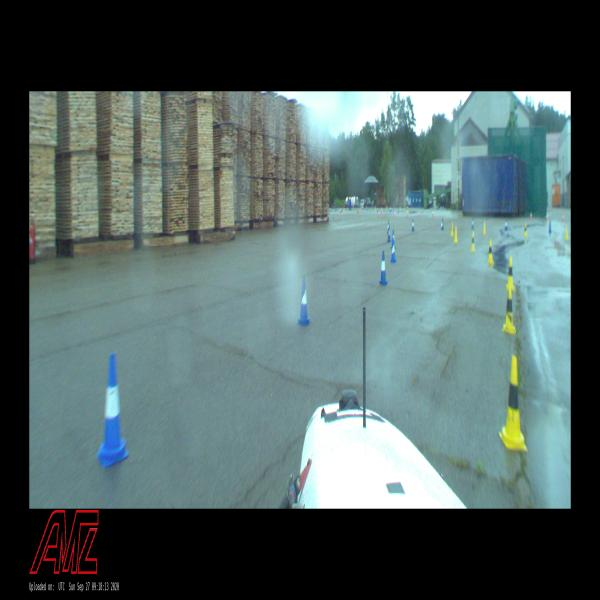blue_cone: (96, 354, 129, 468), (297, 276, 311, 325), (379, 250, 388, 285), (390, 239, 396, 262), (388, 228, 392, 242), (548, 220, 552, 233), (393, 230, 395, 249), (441, 219, 444, 230), (471, 218, 474, 229), (387, 221, 389, 234), (412, 219, 414, 231)
yellow_cone: (499, 356, 527, 451), (502, 284, 516, 333), (506, 256, 515, 290), (488, 239, 494, 263), (471, 232, 475, 251), (454, 226, 458, 243), (450, 222, 454, 236), (565, 226, 568, 240), (524, 224, 527, 236), (482, 222, 485, 234)
